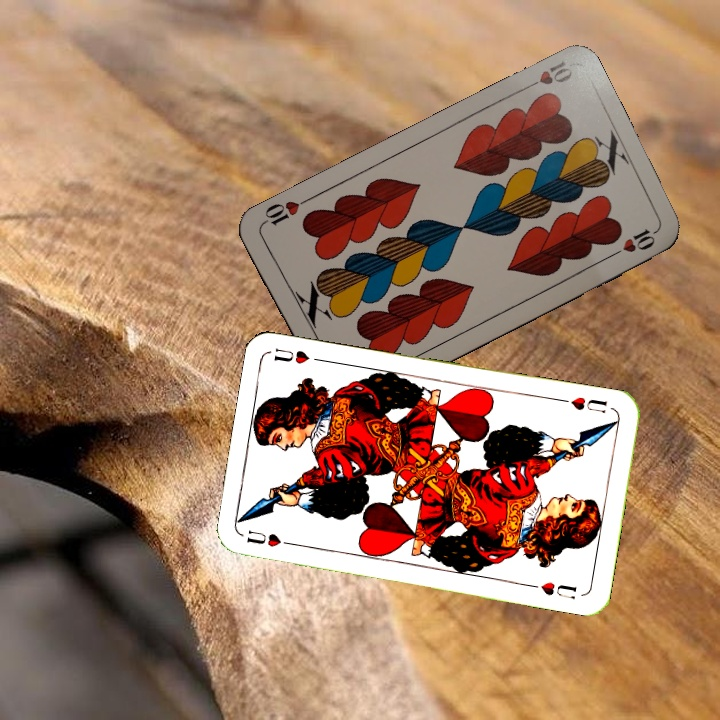H10: (518, 56, 575, 94)
HU: (243, 526, 298, 550), (556, 392, 610, 416)
